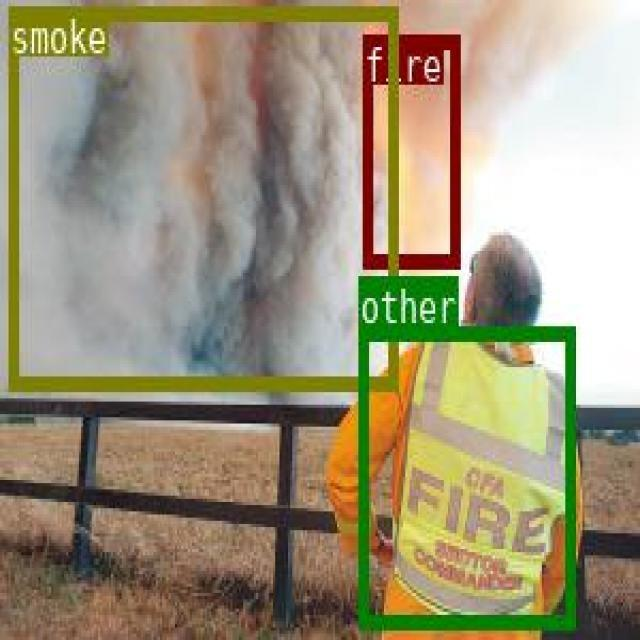fire: (362, 33, 458, 264)
smoke: (7, 6, 396, 389)
